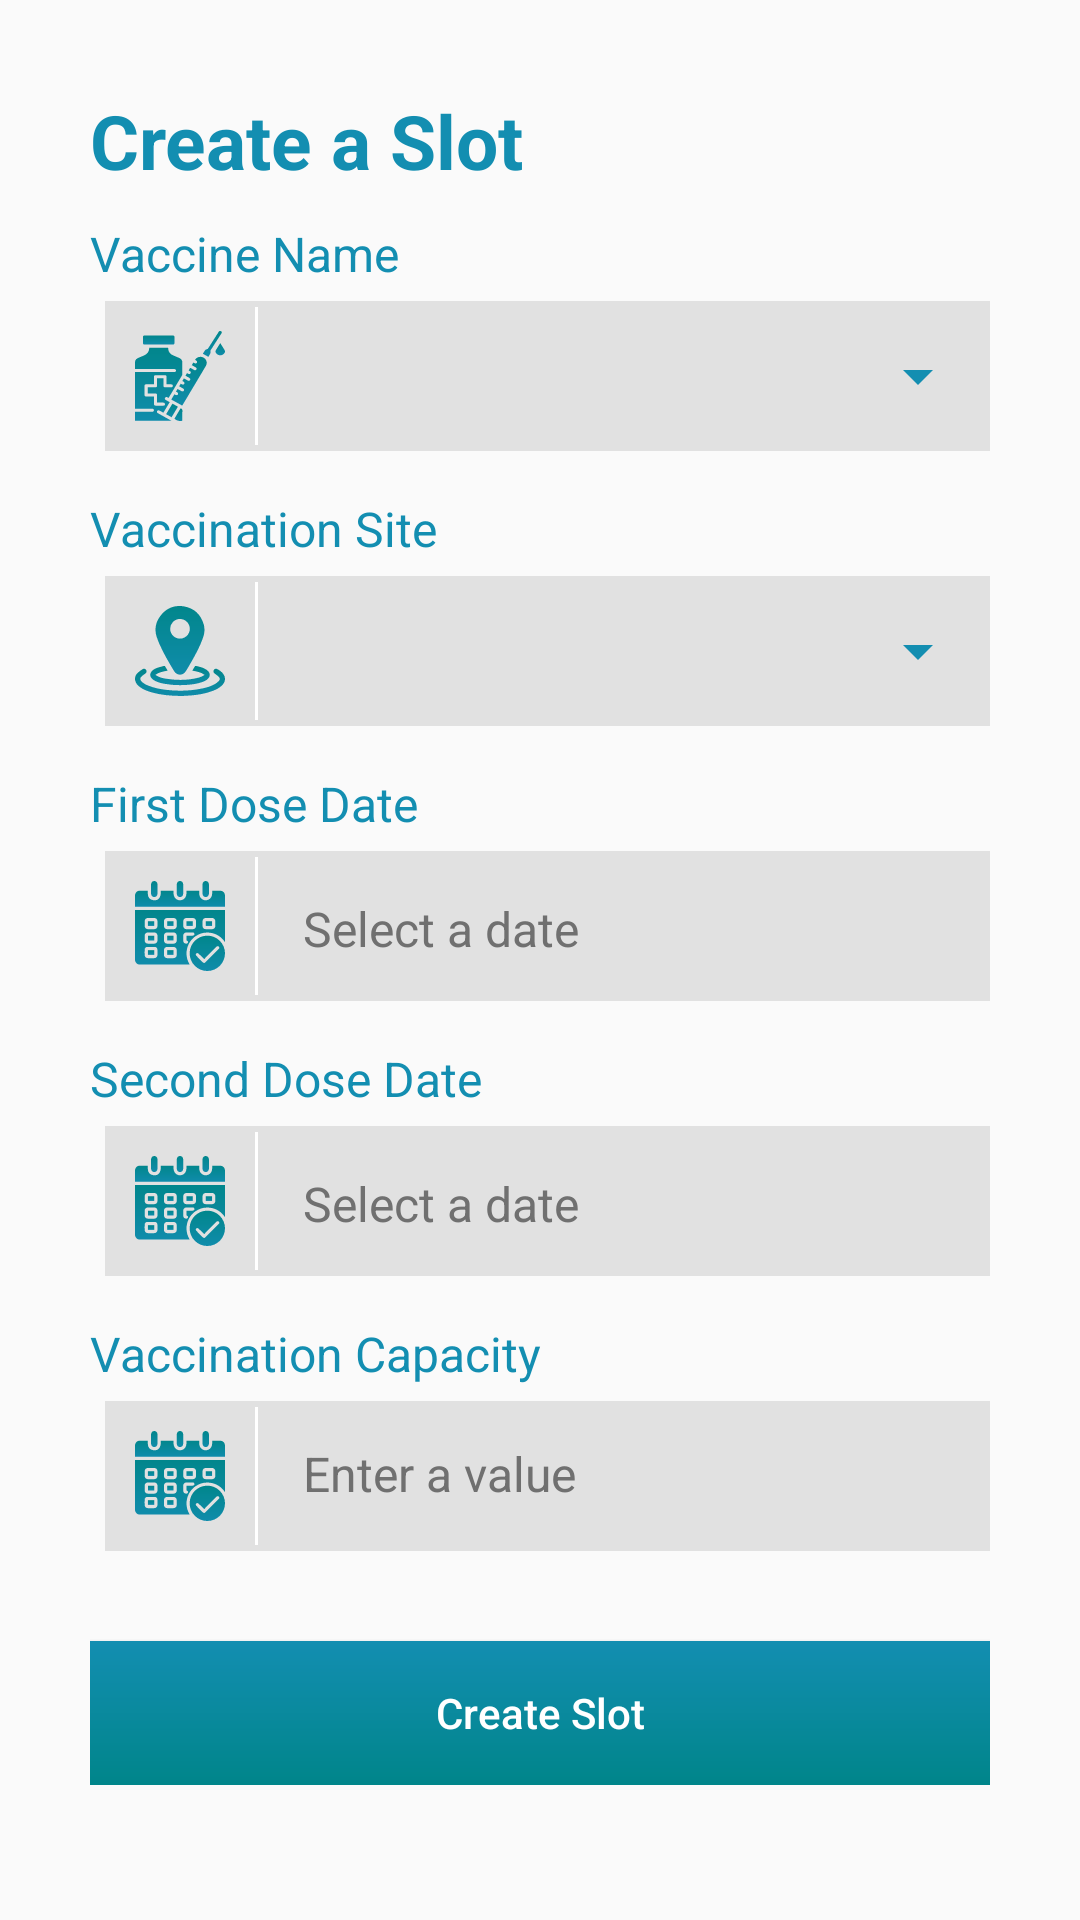

Point at icon controls on the screen. Image size 1080 x 1920, points as (x,y).
location: (180,651)
